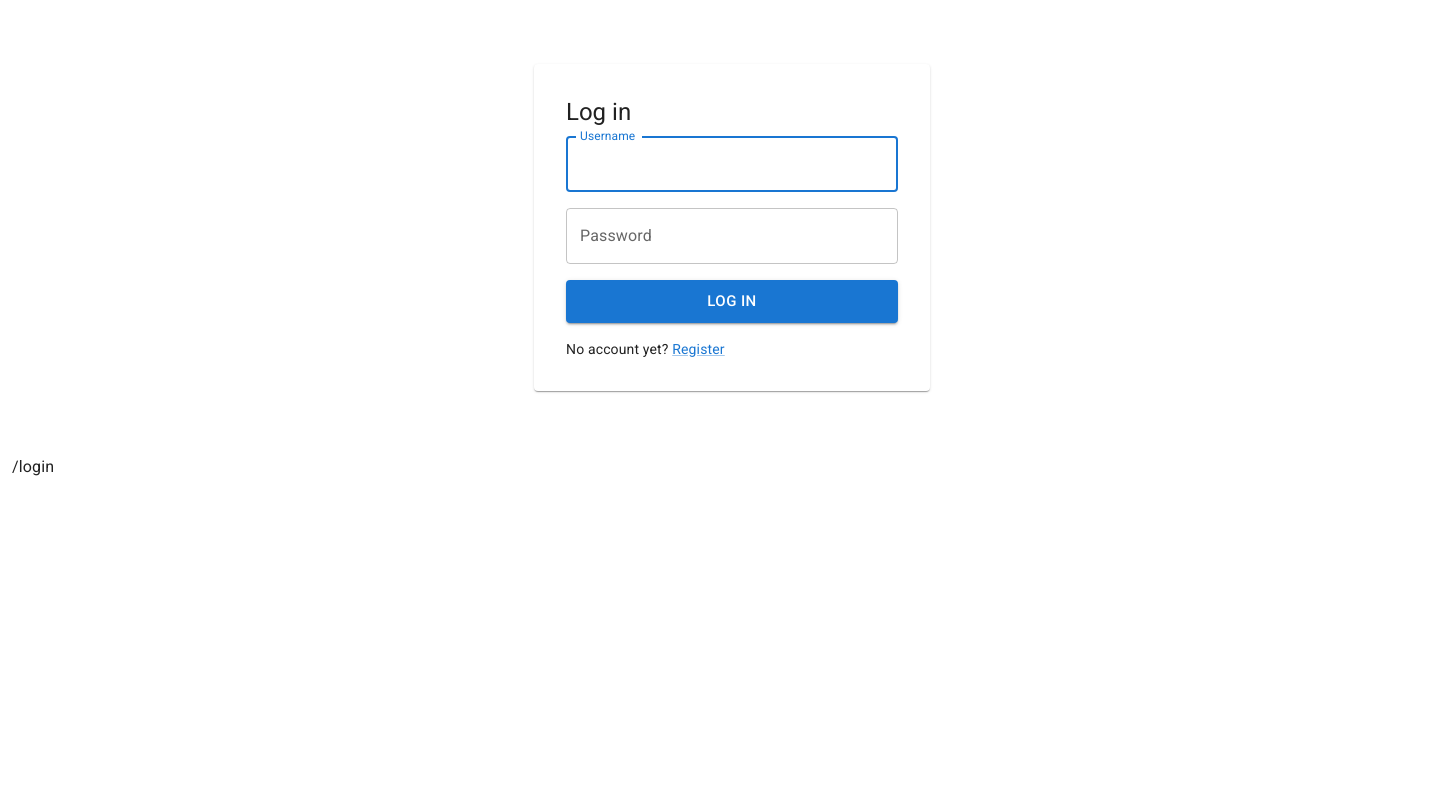
Scenario: LoginPage › logs in and shows the profile
The width and height of the screenshot is (1452, 810).
Expected: the heading "Log in" is shown, [566,98,631,126]
Type "alice" into the field labelled "Username" at (732, 164), box [566,136,898,192]
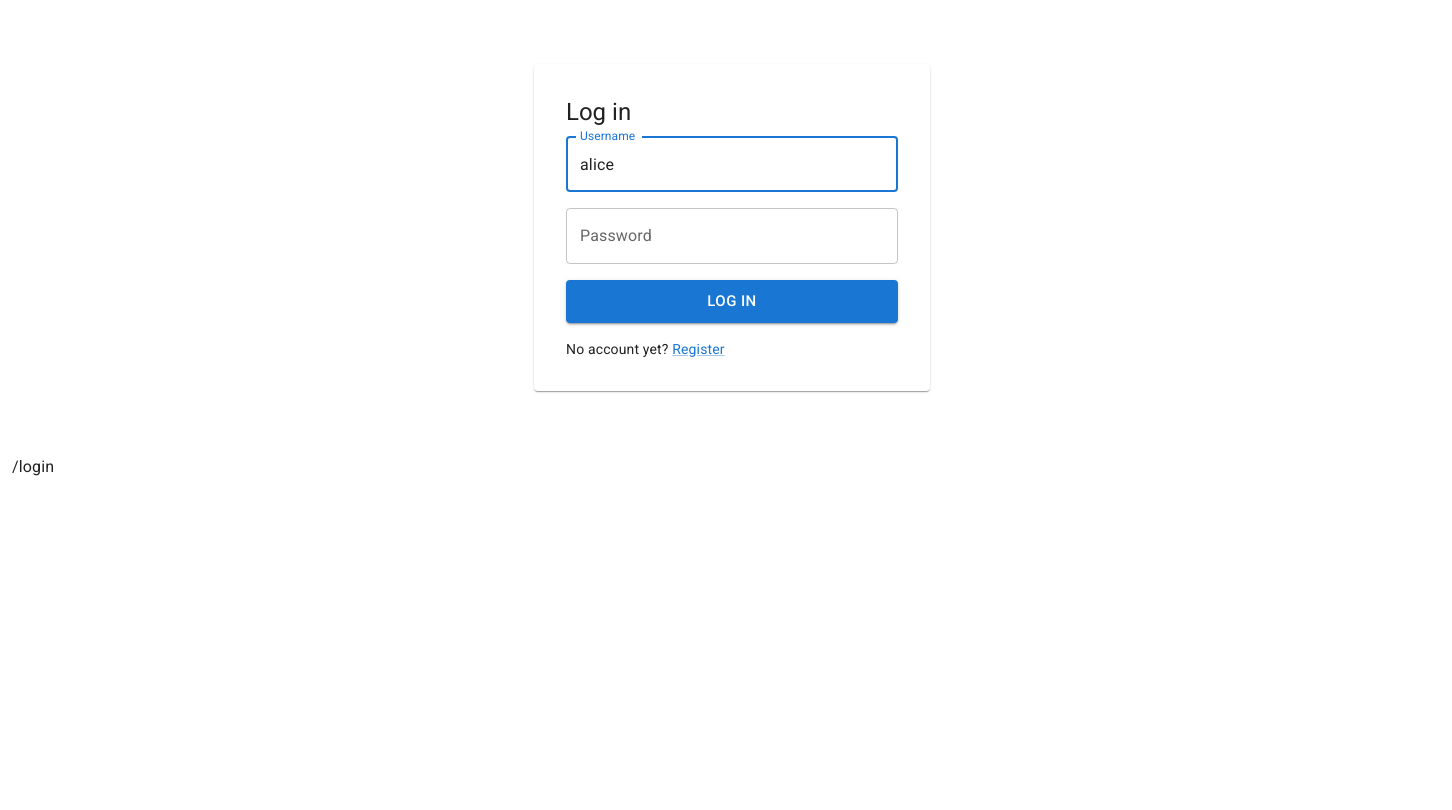
Type "secret123" into the password field labelled "Password" at (732, 236), box [566,208,898,264]
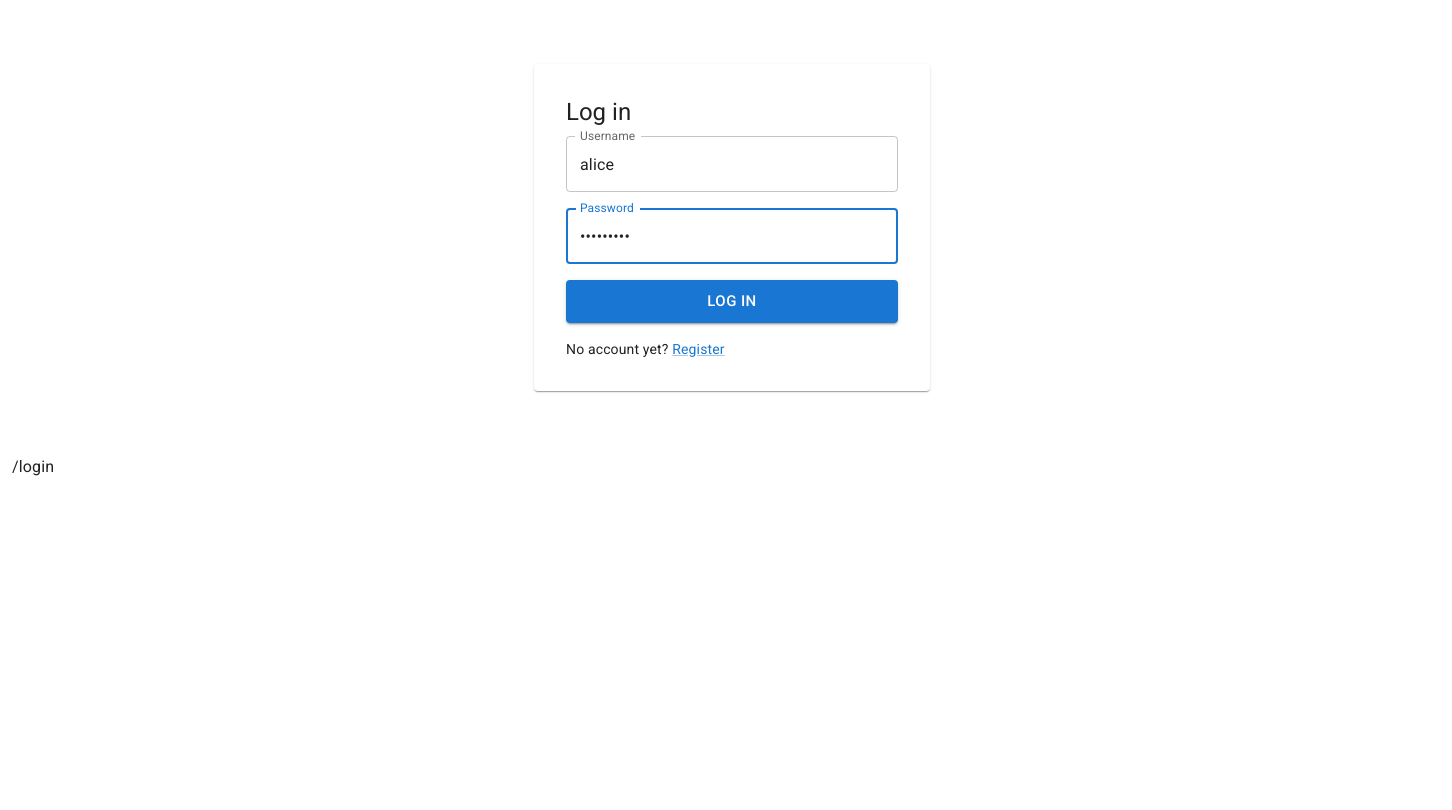
Click the button "Log in" at (732, 302), box [566,280,898,323]
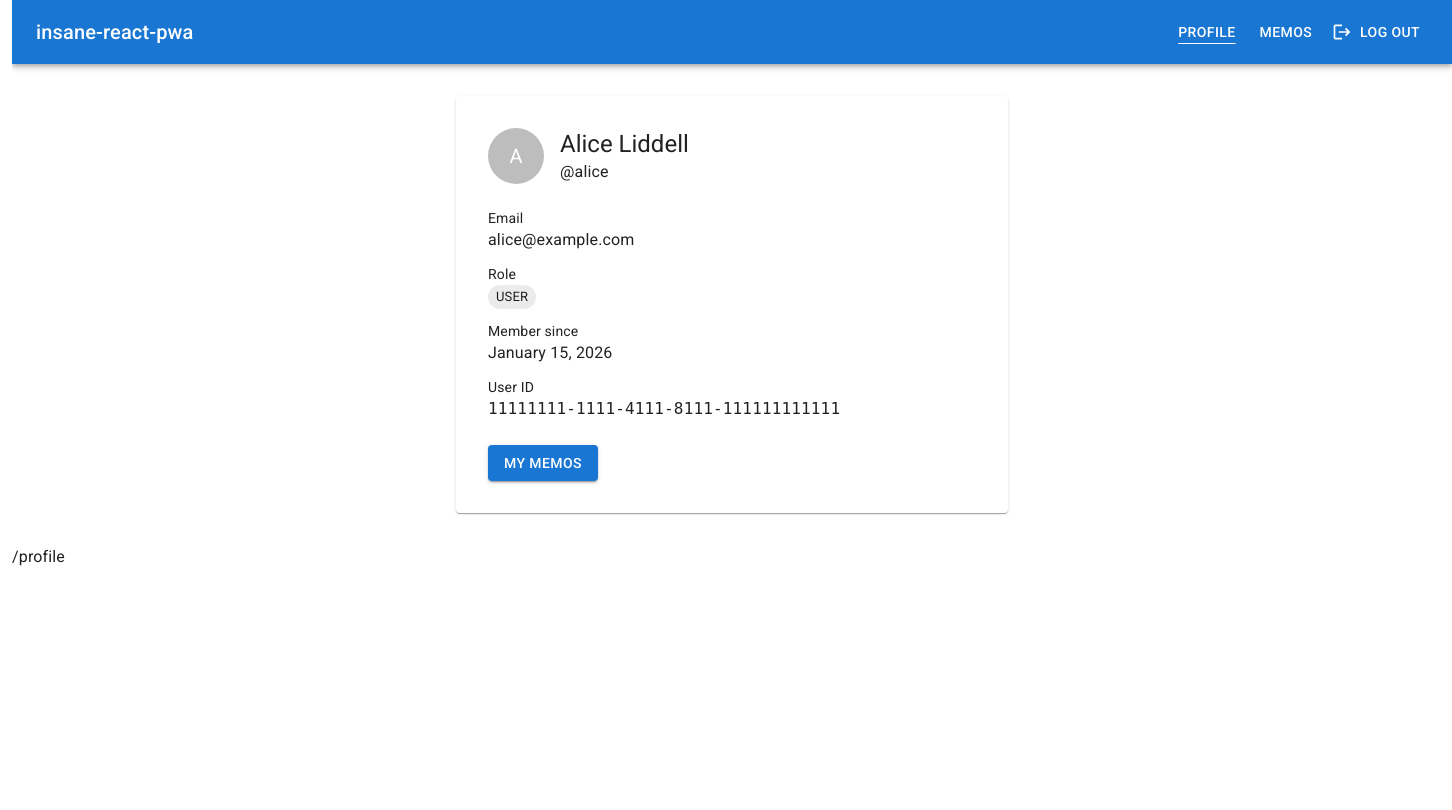
Expected: the heading "Alice Liddell" is shown, [560,128,689,160]
Expected: the text with test id "location" reads "/profile", [12,547,65,566]
